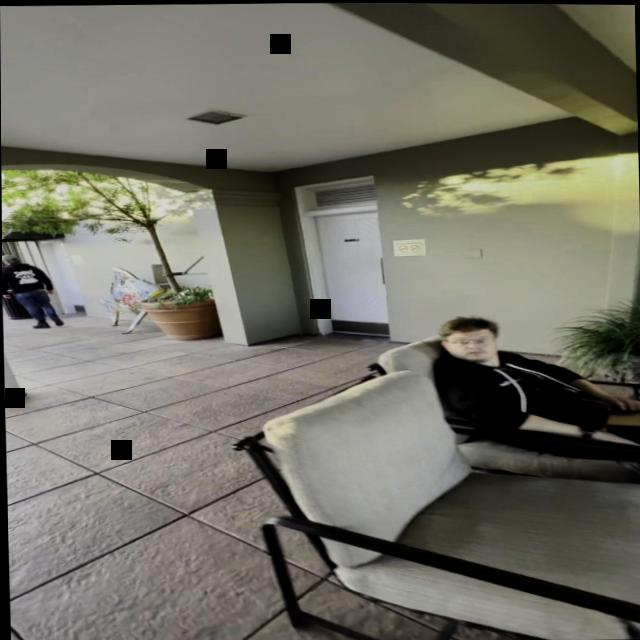NO-Mask: (447, 328, 497, 363)
